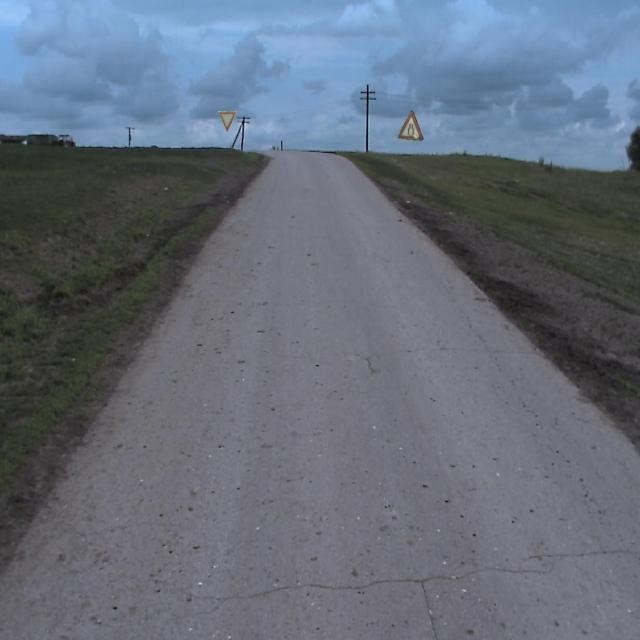road: (0, 151, 639, 639)
